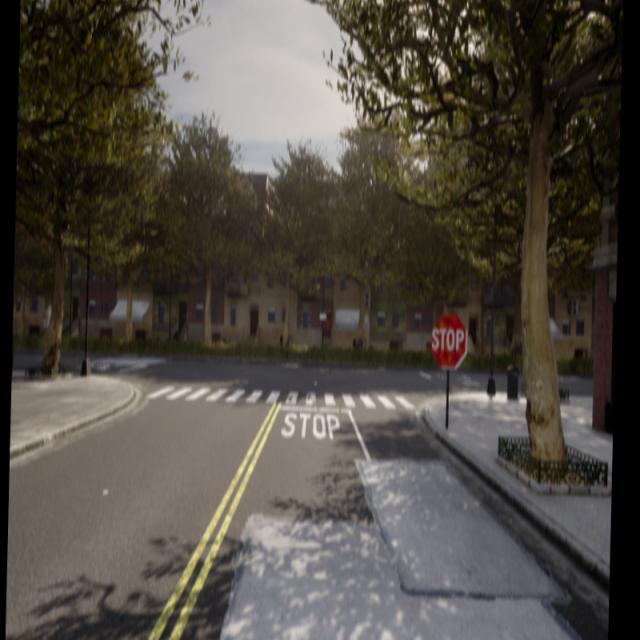stop sign: (428, 309, 470, 372), (430, 324, 466, 353)
